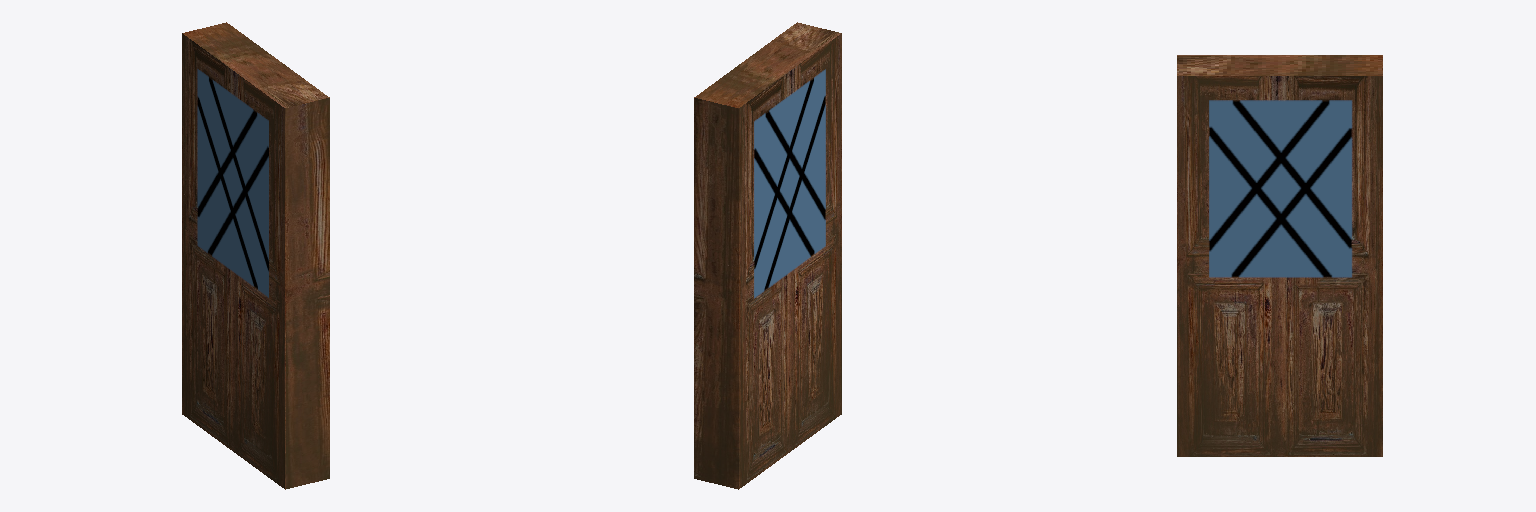
3 views of the same model, side by side, from view 1: azimuth 30°, elevation 25°; view 2: azimuth 150°, elevation 25°; view 3: azimuth 270°, elevation 25° (orthographic).
Parts seen in each view (by area): view 1: puertaLateral:pCube66; view 2: puertaLateral:pCube66; view 3: puertaLateral:pCube66.
Boxes of the visible parts, <box> form: puertaLateral:pCube66: <box>182,22,329,489</box>; puertaLateral:pCube66: <box>694,22,841,489</box>; puertaLateral:pCube66: <box>1177,55,1382,456</box>.
Bounding box in the file's own units: 0.05 × 0.408 × 0.1996.
Materials: 1 (1 with a texture image).